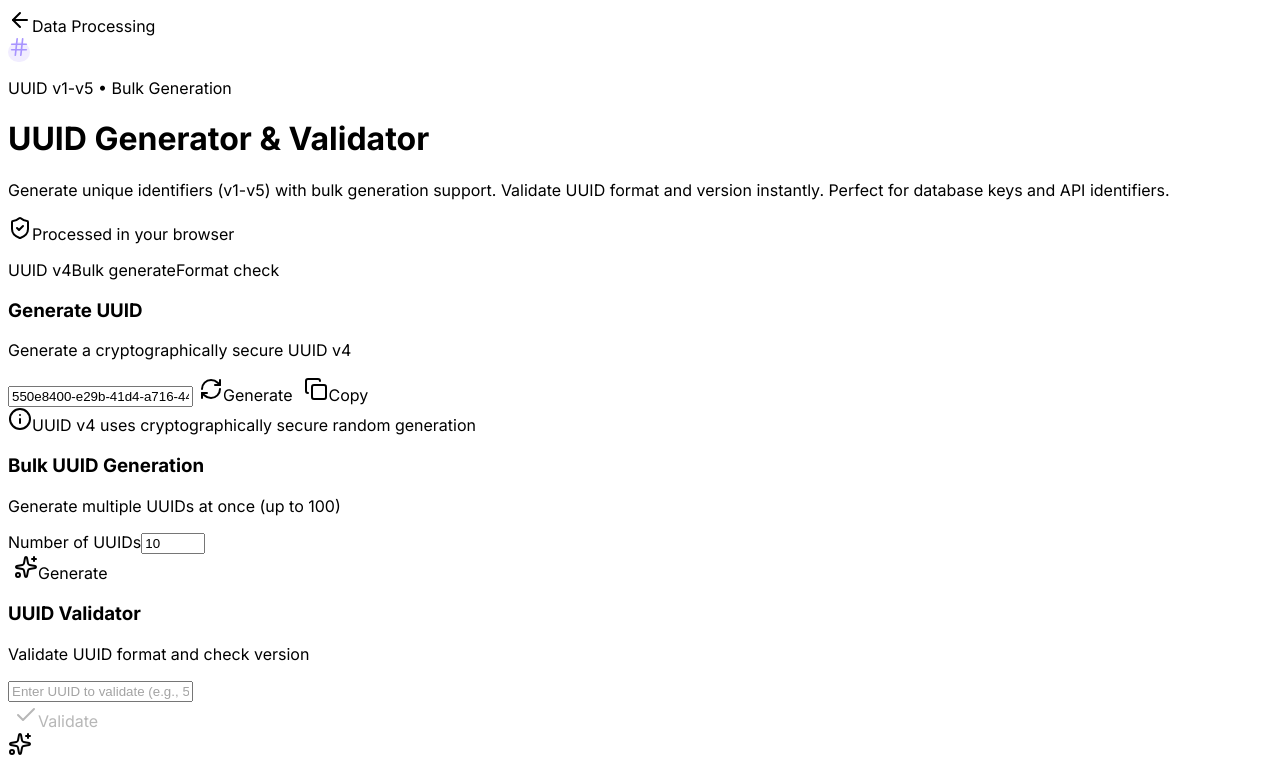
Test: UUID Generator Page › UUID Validation › validates a correct UUID v4
Replace the text in the field with placeholder "Enter UUID to validate" with "550e8400-e29b-41d4-a716-446655440000" at (100, 692), box [8,681,193,702]
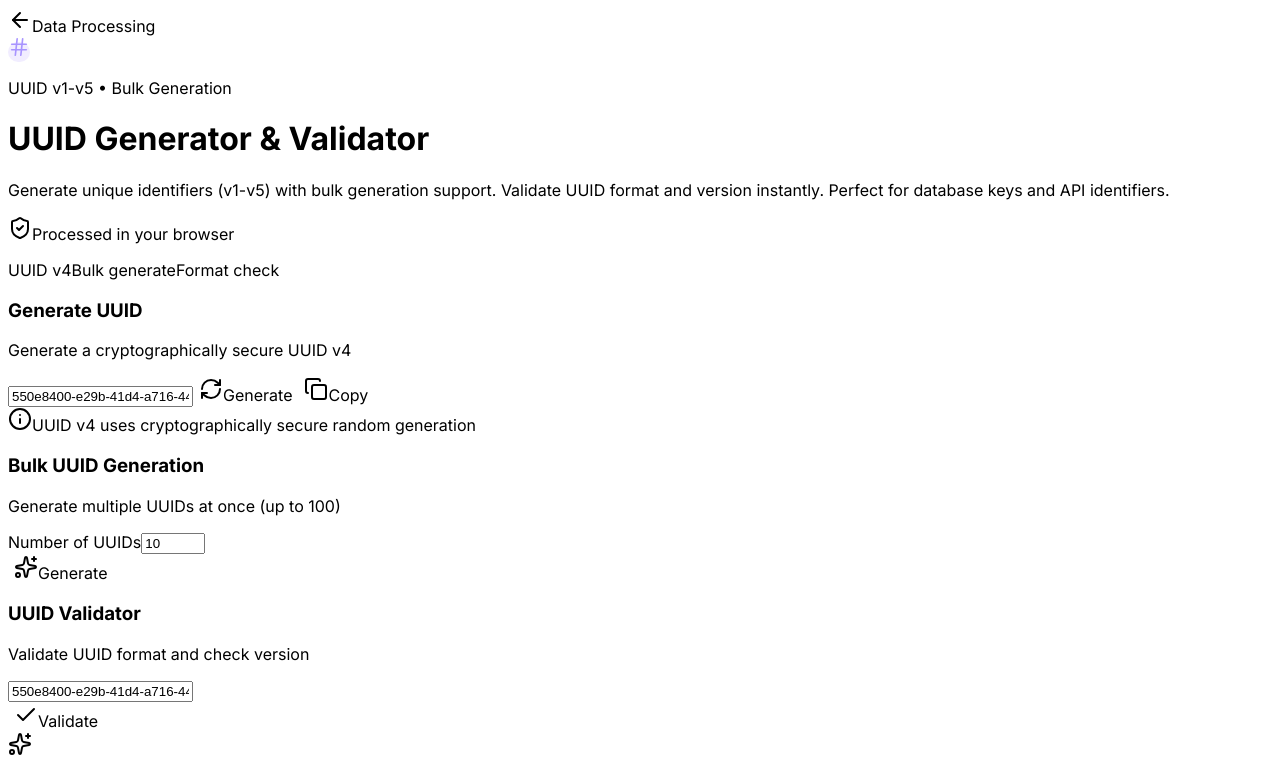
Click the button "Validate" at (56, 717), box [8,702,104,732]
(page scrolled)
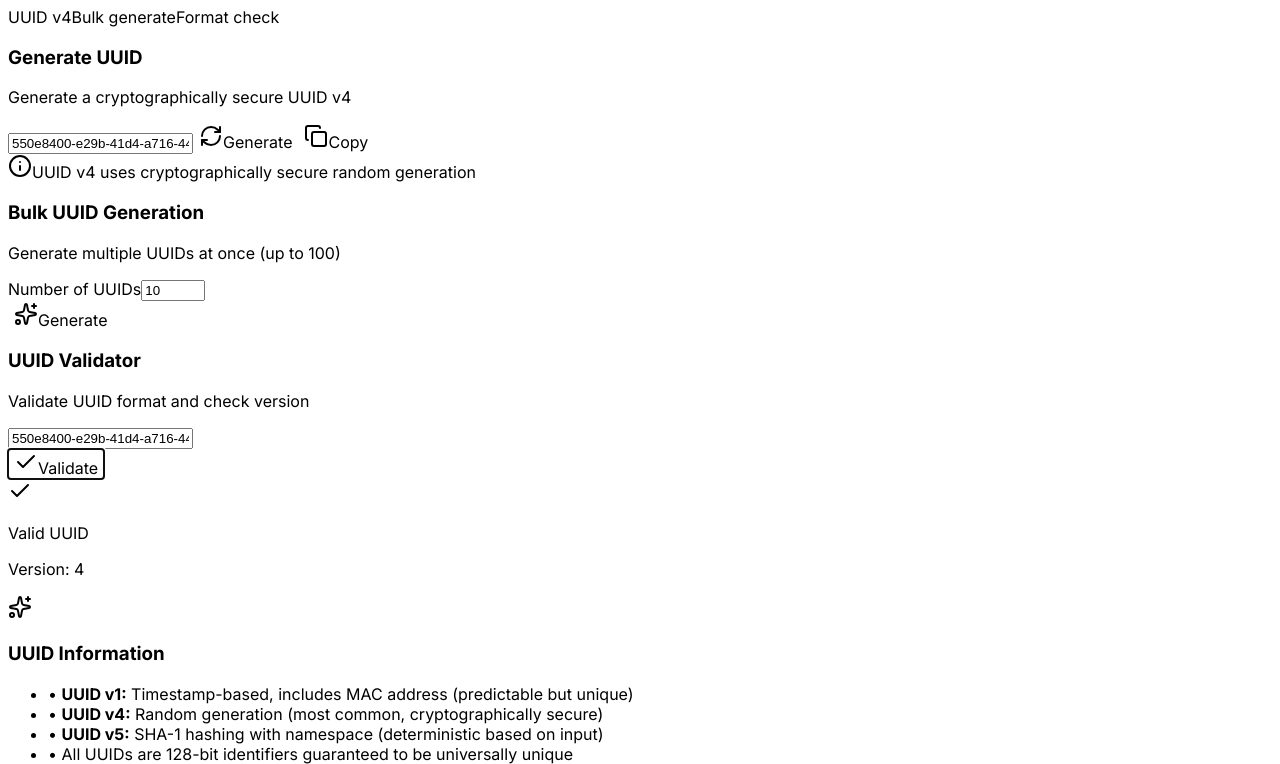
Expected: the text "Valid UUID" is shown, [8,523,89,543]
Expected: the text "Version: 4" is shown, [8,559,84,579]
